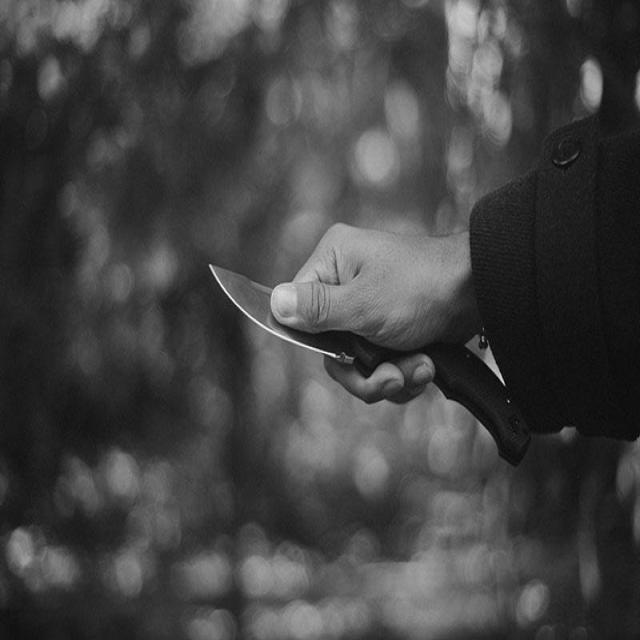knife: (209, 265, 530, 466)
